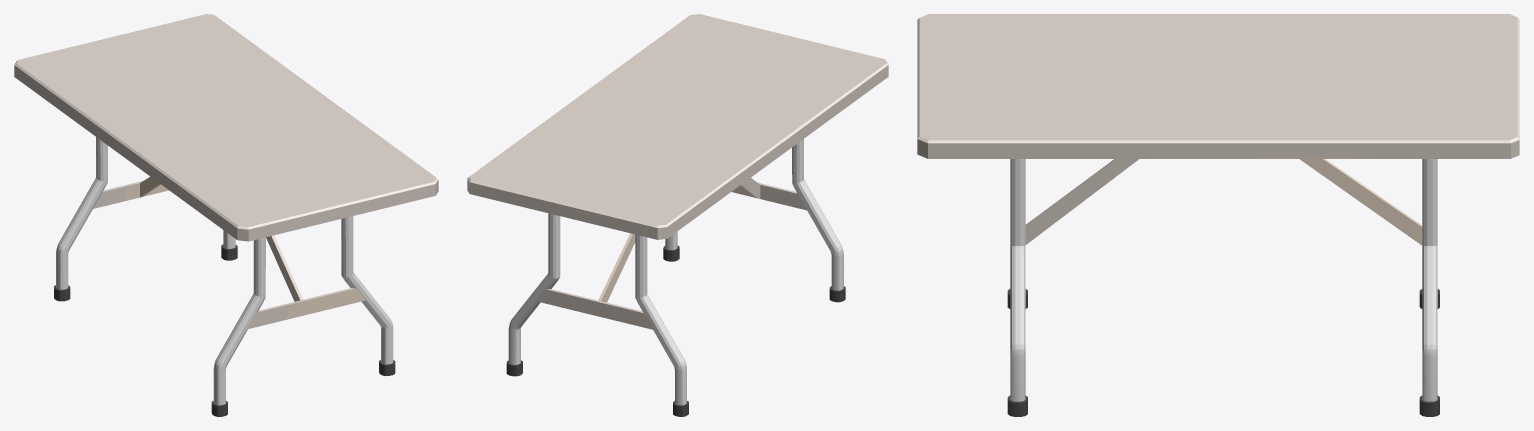
The model's file is FoldTable.fbx.
3 views of the same model, side by side, from view 1: azimuth 30°, elevation 25°; view 2: azimuth 150°, elevation 25°; view 3: azimuth 270°, elevation 25° (orthographic). The views are drawn at different scales.
Visible parts, largest first — view 1: pCube3, pole5, pCube2, pCube1; view 2: pCube3, pole5, pCube1, pCube2; view 3: pCube3, pole5, pCube1, pCube2.
Boxes of the visible parts, bbox=[...] form: pCube3: bbox=[14, 14, 438, 241]; pole5: bbox=[54, 137, 395, 416]; pCube2: bbox=[247, 235, 365, 329]; pCube1: bbox=[93, 176, 168, 208]; pCube3: bbox=[467, 14, 888, 239]; pole5: bbox=[506, 139, 845, 416]; pCube1: bbox=[536, 233, 654, 329]; pCube2: bbox=[731, 178, 806, 210]; pCube3: bbox=[917, 14, 1519, 158]; pole5: bbox=[1007, 159, 1439, 416]; pCube1: bbox=[1299, 159, 1422, 245]; pCube2: bbox=[1025, 159, 1138, 244].
Bounding box in the file's own units: 72.19 × 74.1 × 143.
Materials: 1 (1 with a texture image).
